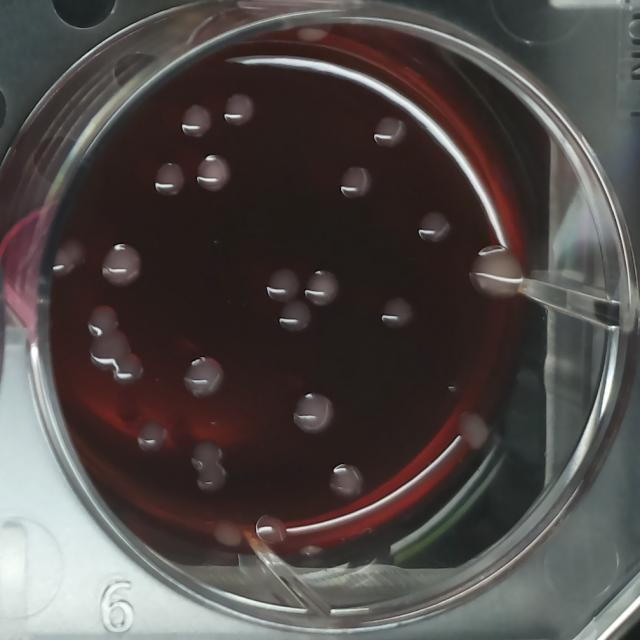Bacillus: (467, 240, 527, 306)
Pseudoalteromonas: (287, 388, 339, 442), (96, 237, 146, 292), (180, 351, 228, 405)
